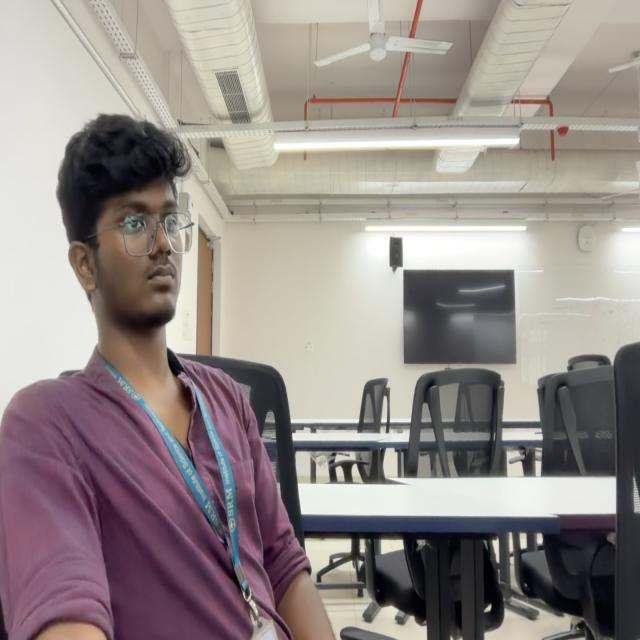ravindra: (57, 114, 197, 332)
